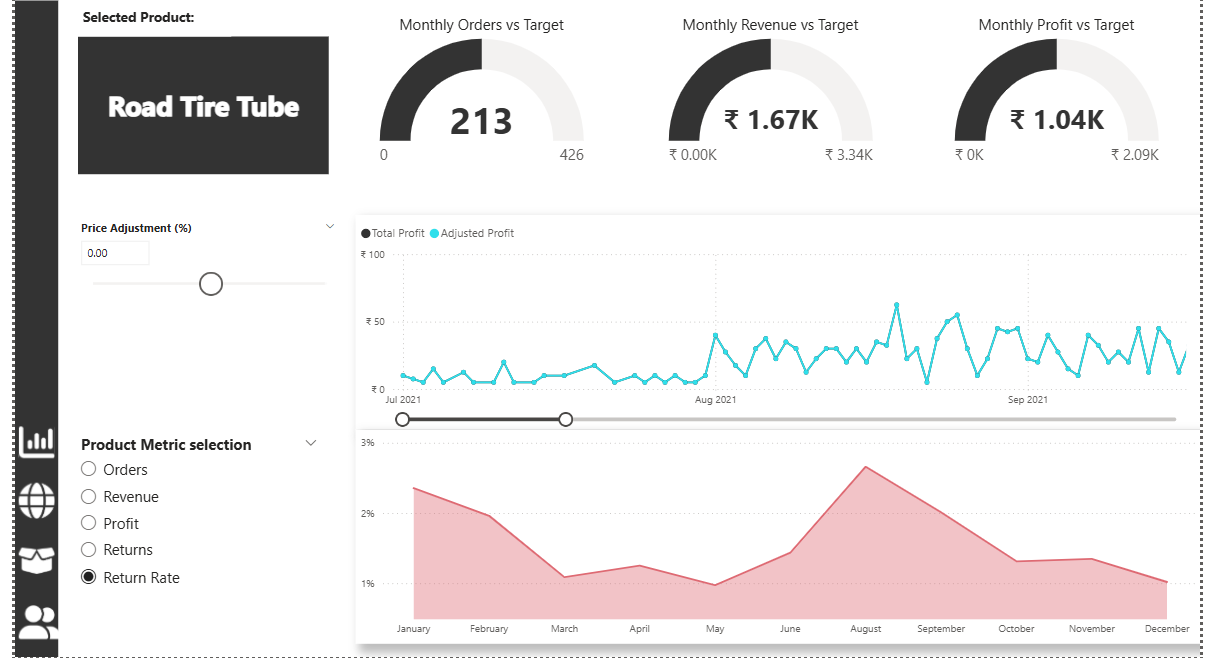

The page's visual inventory and layout, read from the dashboard file:
{"tool":"powerbi","page":{"name":"Product Details","canvas":[1280,720],"ordinal":2},"visuals":[{"type":"actionButton","box":[0,464.7,58.3,47],"z":0,"group":"g1"},{"type":"shape","box":[0,11,46.7,709],"z":0},{"type":"gauge","title":"Monthly Orders vs Target","fields":{"Y":["Measure Table.Total Orders"]},"box":[367.3,25.8,272,172.7],"z":1000},{"type":"actionButton","box":[0,528.4,58.3,47],"z":1000,"group":"g1"},{"type":"gauge","title":"Monthly Revenue vs Target","fields":{"Y":["Measure Table.Total Revenue"]},"box":[679.1,25.8,274,172.7],"z":2000},{"type":"actionButton","box":[0,592.1,58.3,47],"z":2000,"group":"g1"},{"type":"gauge","title":"Monthly Profit vs Target","fields":{"Y":["Measure Table.Total Profit"]},"box":[969,25.8,311.7,172.7],"z":3000},{"type":"actionButton","box":[0,655.8,58.3,53.4],"z":3000,"group":"g1"},{"type":"lineChart","title":"Weekly Profit","fields":{"Category":["Calendar Lookup.Date.Variation.Date Hierarchy.Year","Calendar Lookup.Date.Variation.Date Hierarchy.Month","Calendar Lookup.Date.Variation.Date Hierarchy.Day"],"Y":["Measure Table.Total Profit","Measure Table.Adjusted Profit"]},"box":[367.6,242.9,913.2,231.5],"z":4000},{"type":"areaChart","title":"Weekly Returns","fields":{"Y":["Measure Table.Return Rate"],"Category":["Calendar Lookup.Date.Variation.Date Hierarchy.Year","Calendar Lookup.Date.Variation.Date Hierarchy.Month","Calendar Lookup.Date.Variation.Date Hierarchy.Day"]},"box":[367.6,474.4,913.2,231.5],"z":5000},{"type":"card","fields":{"Values":["Min(Product Lookup.ProductName)"]},"box":[68,50.2,270.4,149],"z":6000},{"type":"textbox","box":[68,13,165.2,37.2],"z":7000},{"type":"group","id":"g1","title":"Navigation buttons","box":[0,464.7,58.3,244.5],"z":8000},{"type":"slicer","fields":{"Values":["Price Adjustment (%).Price Adjustment (%)"]},"box":[58.3,242.9,299.6,123.1],"z":9000},{"type":"slicer","fields":{"Values":["Product Metric selection.Product Metric selection"]},"box":[58.3,474.4,280.1,246.1],"z":10000}]}

Visuals, with their boxes on the page's 1280x720 design canvas (x1, y1, x2, y2). These are canvas units, not pixel positions in the 1217x658 screenshot, which may show the page scaled, cropped or inside an application window:
actionButton: l=0, t=465, r=58, b=512
shape: l=0, t=11, r=47, b=720
"Monthly Orders vs Target" gauge: l=367, t=26, r=639, b=198
actionButton: l=0, t=528, r=58, b=575
"Monthly Revenue vs Target" gauge: l=679, t=26, r=953, b=198
actionButton: l=0, t=592, r=58, b=639
"Monthly Profit vs Target" gauge: l=969, t=26, r=1281, b=198
actionButton: l=0, t=656, r=58, b=709
"Weekly Profit" lineChart: l=368, t=243, r=1281, b=474
"Weekly Returns" areaChart: l=368, t=474, r=1281, b=706
card - Min(Product Lookup.ProductName): l=68, t=50, r=338, b=199
textbox: l=68, t=13, r=233, b=50
"Navigation buttons" group: l=0, t=465, r=58, b=709
slicer - Price Adjustment (%).Price Adjustment (%): l=58, t=243, r=358, b=366
slicer - Product Metric selection.Product Metric selection: l=58, t=474, r=338, b=720
